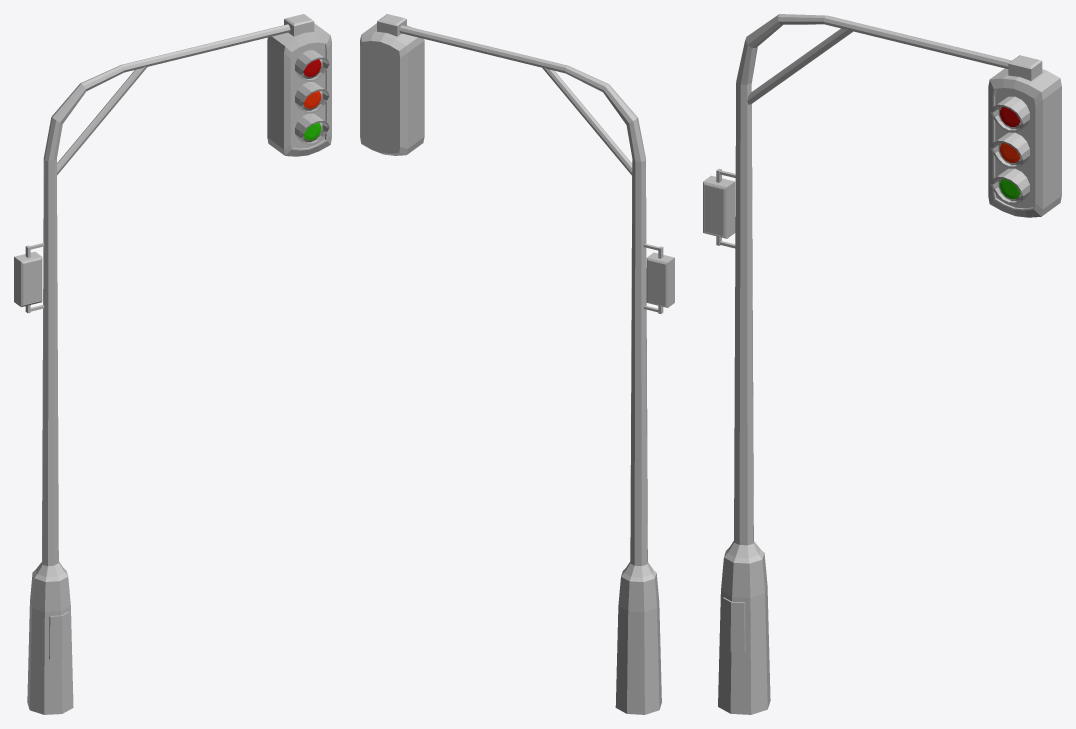
The model's file is traffic_light_1.obj.
3 renders of one model, left to right at view 1: azimuth 30°, elevation 25°; view 2: azimuth 150°, elevation 25°; view 3: azimuth 330°, elevation 25°, orthographic. The views are drawn at different scales.
Visible parts, largest first — view 1: pole_roads_material, traffic_light_roads_material, thingy_roads_material; view 2: pole_roads_material, traffic_light_roads_material, thingy_roads_material; view 3: pole_roads_material, traffic_light_roads_material, thingy_roads_material.
Boxes of the visible parts, x1,y1,x2,y2 form: pole_roads_material: [27, 14, 314, 714]; traffic_light_roads_material: [267, 23, 331, 156]; thingy_roads_material: [14, 243, 44, 313]; pole_roads_material: [377, 14, 661, 714]; traffic_light_roads_material: [360, 23, 424, 155]; thingy_roads_material: [643, 244, 674, 313]; pole_roads_material: [718, 14, 1042, 714]; traffic_light_roads_material: [988, 68, 1061, 217]; thingy_roads_material: [703, 168, 735, 248].
Size of the model in its own units: 3.25 by 6.38 by 0.5881.
